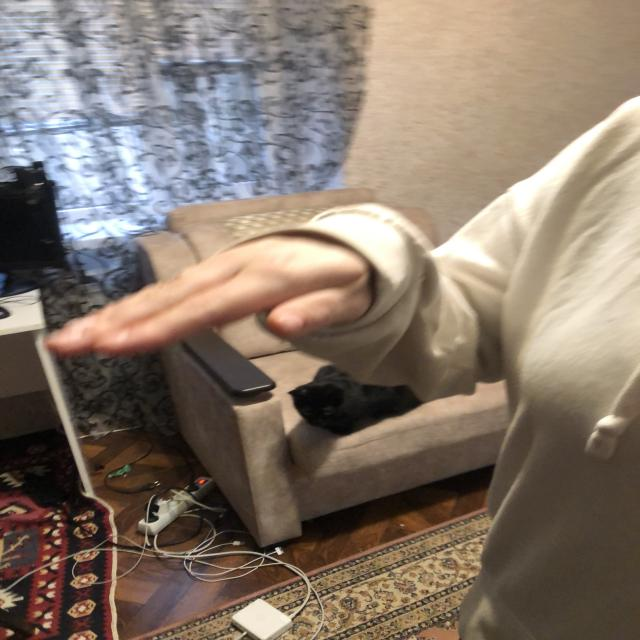paper: (48, 241, 356, 352)
